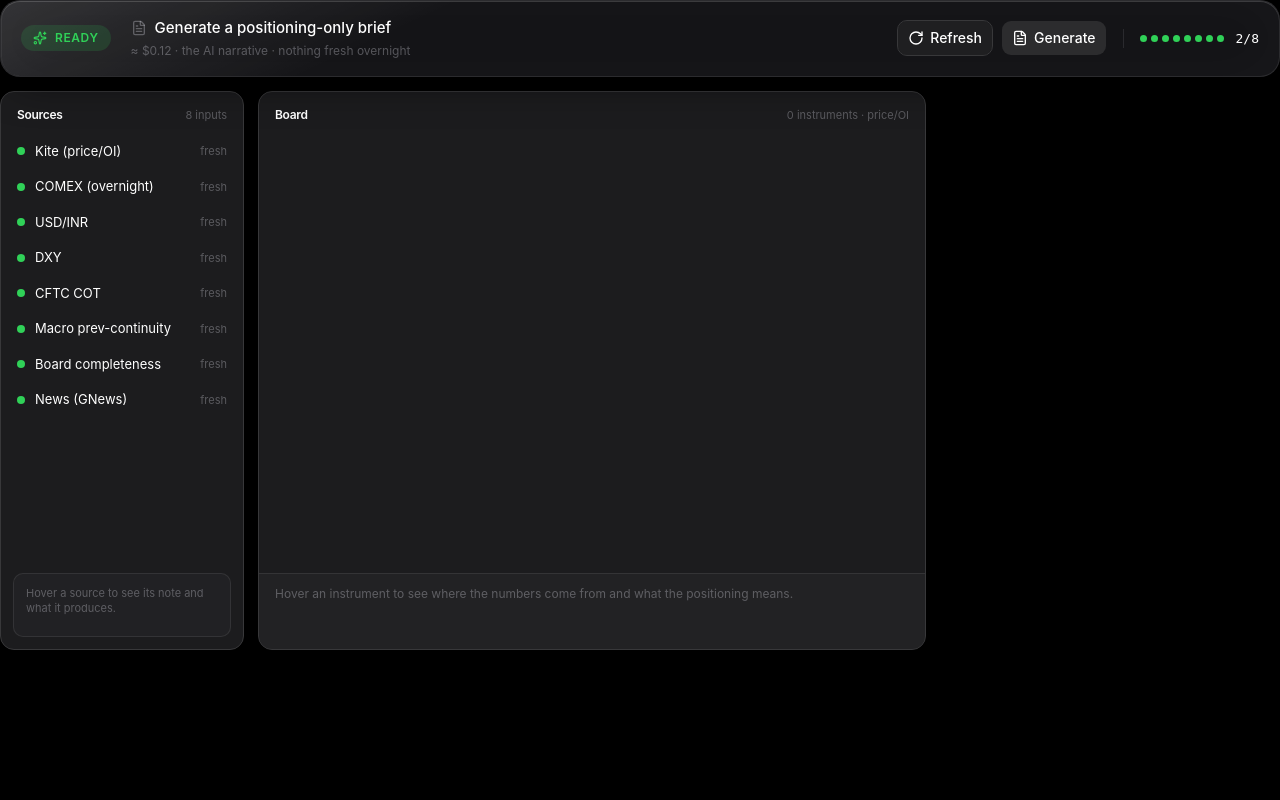
ReadinessScreen — filtered per-dot refresh (FIN-192) › the standing Refresh CTA opens the SCOPE modal — no immediate fetch until a scope is chosen
The image size is (1280, 800).
Click the button "Refresh": (945,38) top-left (897, 20), bottom-right (993, 56)
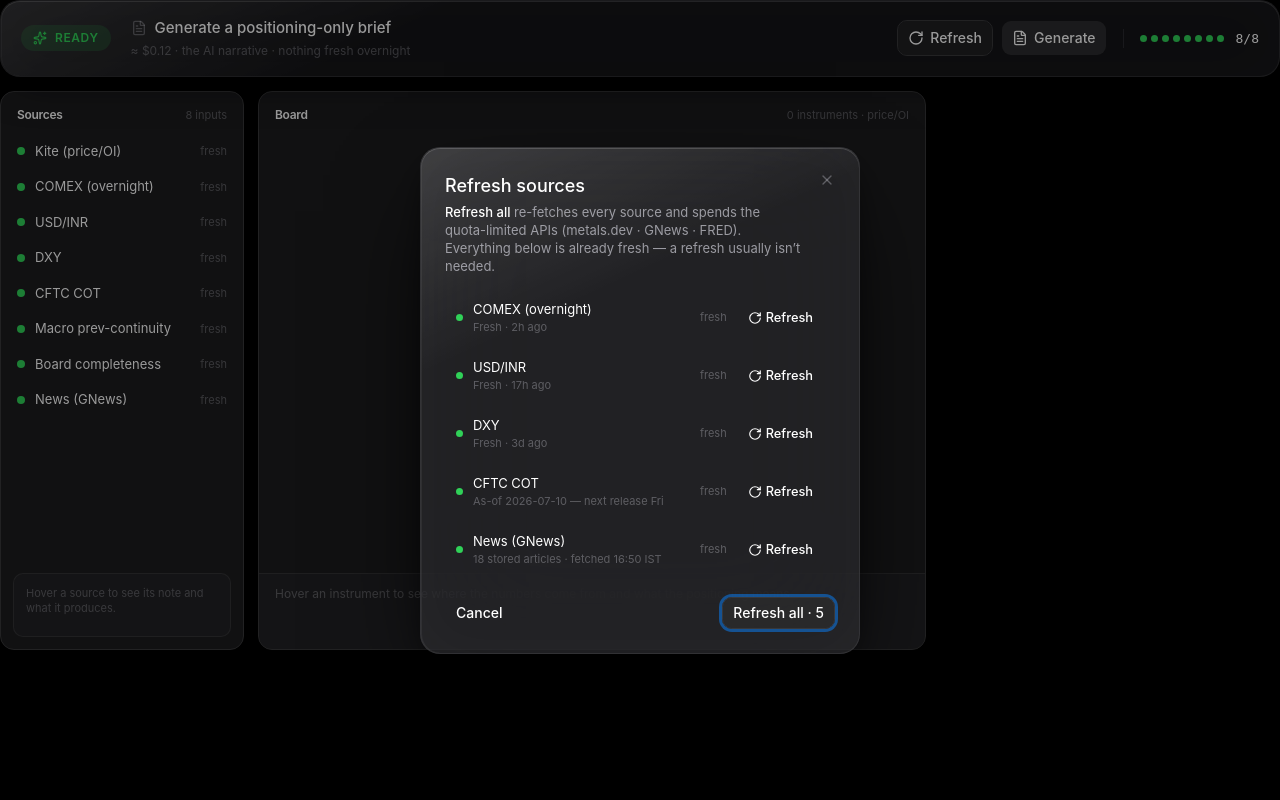
Check: the dialog is shown, box top-left (420, 146), bottom-right (860, 654)
Check: the heading "Refresh sources" is shown, box top-left (445, 174), bottom-right (585, 196)
